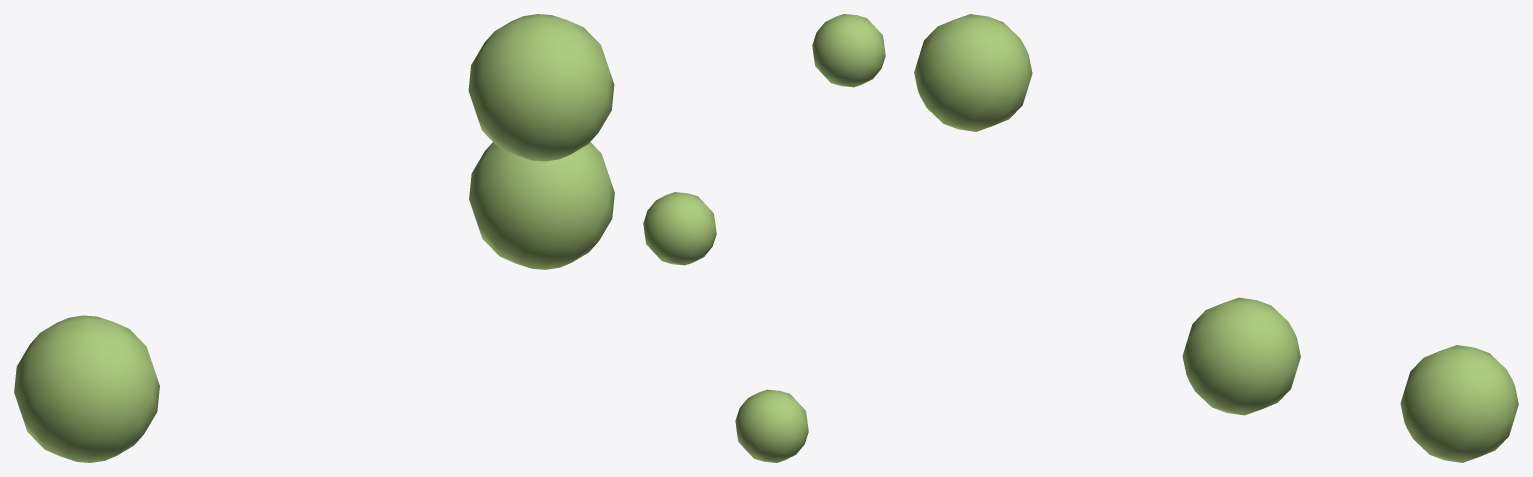
The model's file is prevesical-nodes.glb.
3 renders of one model, left to right at view 1: azimuth 30°, elevation 25°; view 2: azimuth 150°, elevation 25°; view 3: azimuth 270°, elevation 25°, orthographic. The views are drawn at different scales.
Visible parts, largest first — view 1: Prevesical nodes; view 2: Prevesical nodes; view 3: Prevesical nodes.
Part boxes in pixels (x1=…): Prevesical nodes: x1=14, y1=14, x2=614, y2=462; Prevesical nodes: x1=643, y1=14, x2=885, y2=462; Prevesical nodes: x1=914, y1=14, x2=1518, y2=462.
Bounding box in the file's own units: 0.00901 × 0.012 × 0.0133.
